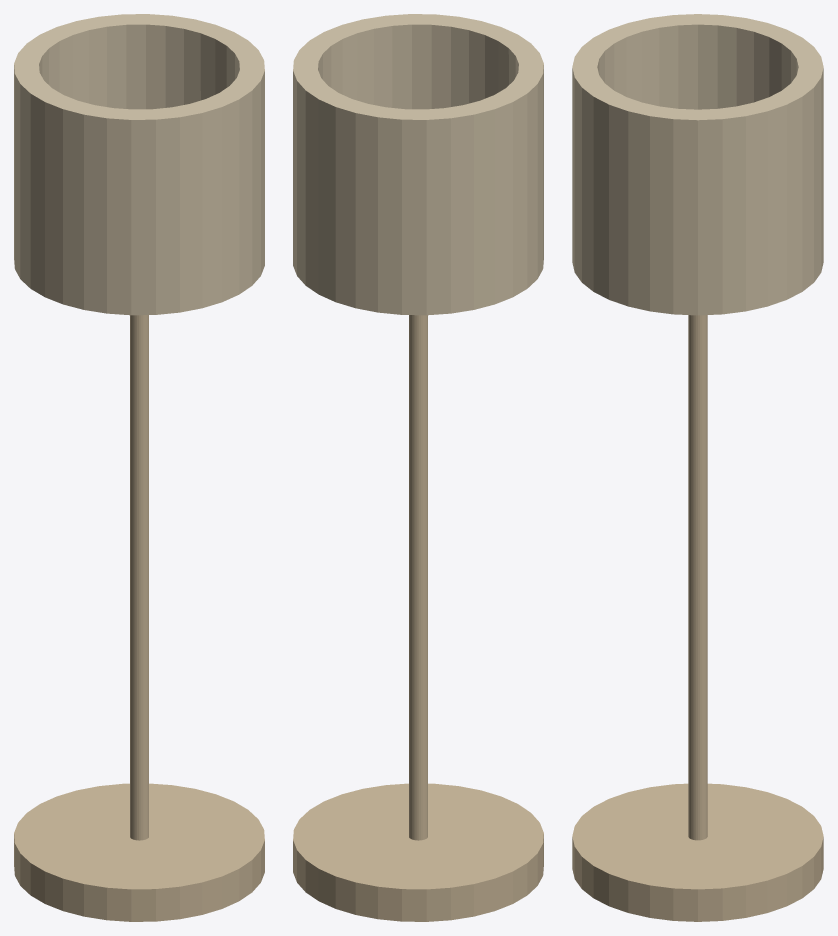
File: Floor_lamp.fbx
3 renders of one model, left to right at view 1: azimuth 30°, elevation 25°; view 2: azimuth 150°, elevation 25°; view 3: azimuth 270°, elevation 25°, orthographic.
Visible parts, largest first — view 1: Lámpara de pie; view 2: Lámpara de pie; view 3: Lámpara de pie.
Part boxes in pixels (x1,y1,x2,y2): Lámpara de pie: (14,14,264,921); Lámpara de pie: (293,14,543,921); Lámpara de pie: (572,14,823,921).
Bounding box in the file's own units: 140 × 493 × 140.
